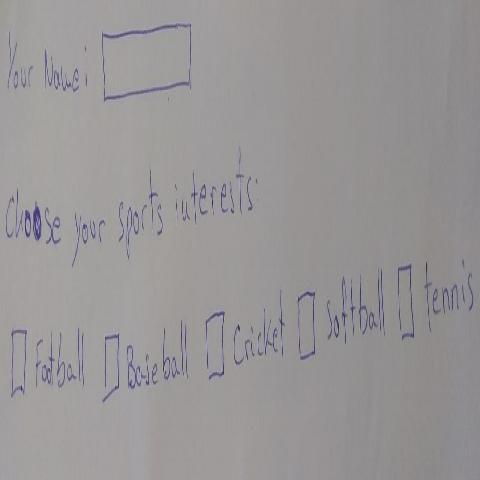Check Box: (297, 263, 386, 361), (102, 313, 189, 405), (205, 289, 286, 383), (397, 252, 475, 345), (10, 316, 86, 407)
Textbox: (101, 13, 194, 105)
